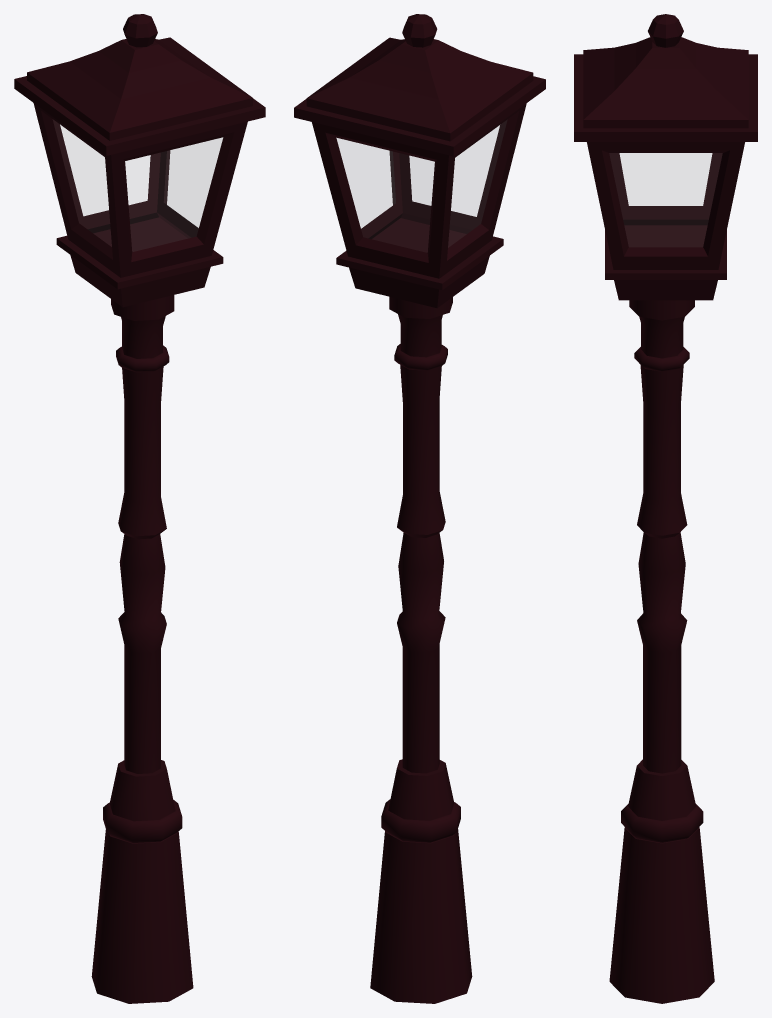
The model's file is lamp.fbx.
3 views of the same model, side by side, from view 1: azimuth 30°, elevation 25°; view 2: azimuth 150°, elevation 25°; view 3: azimuth 270°, elevation 25° (orthographic).
Visible parts, largest first — view 1: lamp, Sphere.001; view 2: lamp, Sphere.001; view 3: lamp, Sphere.001.
Boxes of the visible parts, <box> form: lamp: <box>14,14,265,1003</box>; Sphere.001: <box>60,125,222,227</box>; lamp: <box>294,14,545,1003</box>; Sphere.001: <box>337,125,499,228</box>; lamp: <box>574,14,757,1003</box>; Sphere.001: <box>619,153,712,205</box>.
Bounding box in the file's own units: 43.3 × 251 × 43.3.
